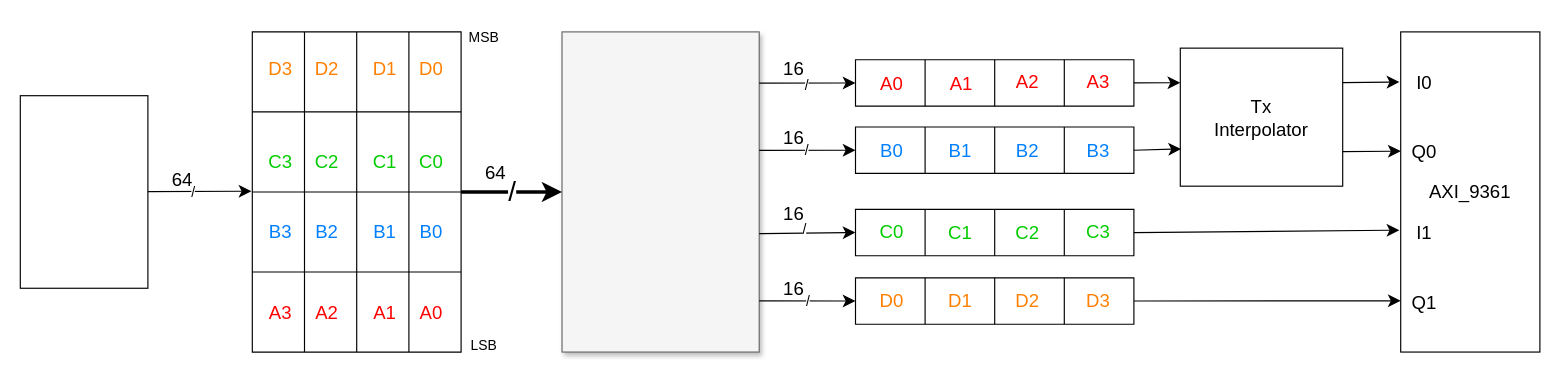
The diagram is 1560 pixels wide and 383 high, and some of its shapes have lost their labels. Each missing label, with the centre of its shape:
"DMA" belongs at pixel 83 191.
"UPACK" belongs at pixel 661 193.
